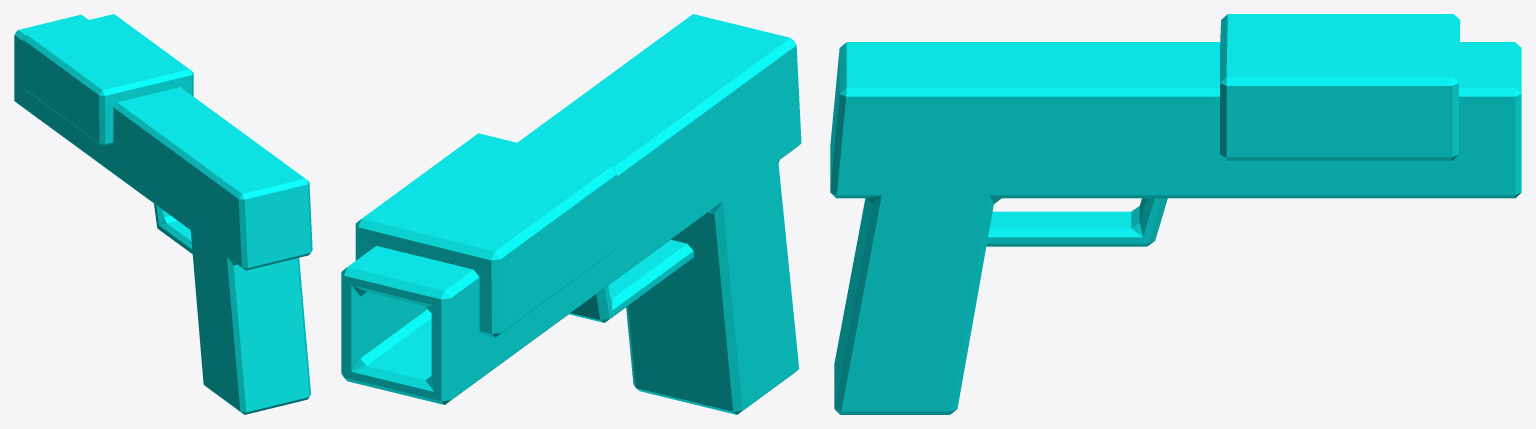
The model's file is pistola.fbx.
3 views of the same model, side by side, from view 1: azimuth 30°, elevation 25°; view 2: azimuth 150°, elevation 25°; view 3: azimuth 270°, elevation 25° (orthographic). The views are drawn at different scales.
Visible parts, largest first — view 1: Pistola; view 2: Pistola; view 3: Pistola.
Boxes of the visible parts, x1,y1,x2,y2 form: Pistola: (14, 14, 312, 414); Pistola: (341, 14, 801, 414); Pistola: (830, 14, 1521, 414).
Bounding box in the file's own units: 67.68 × 288 × 159.
